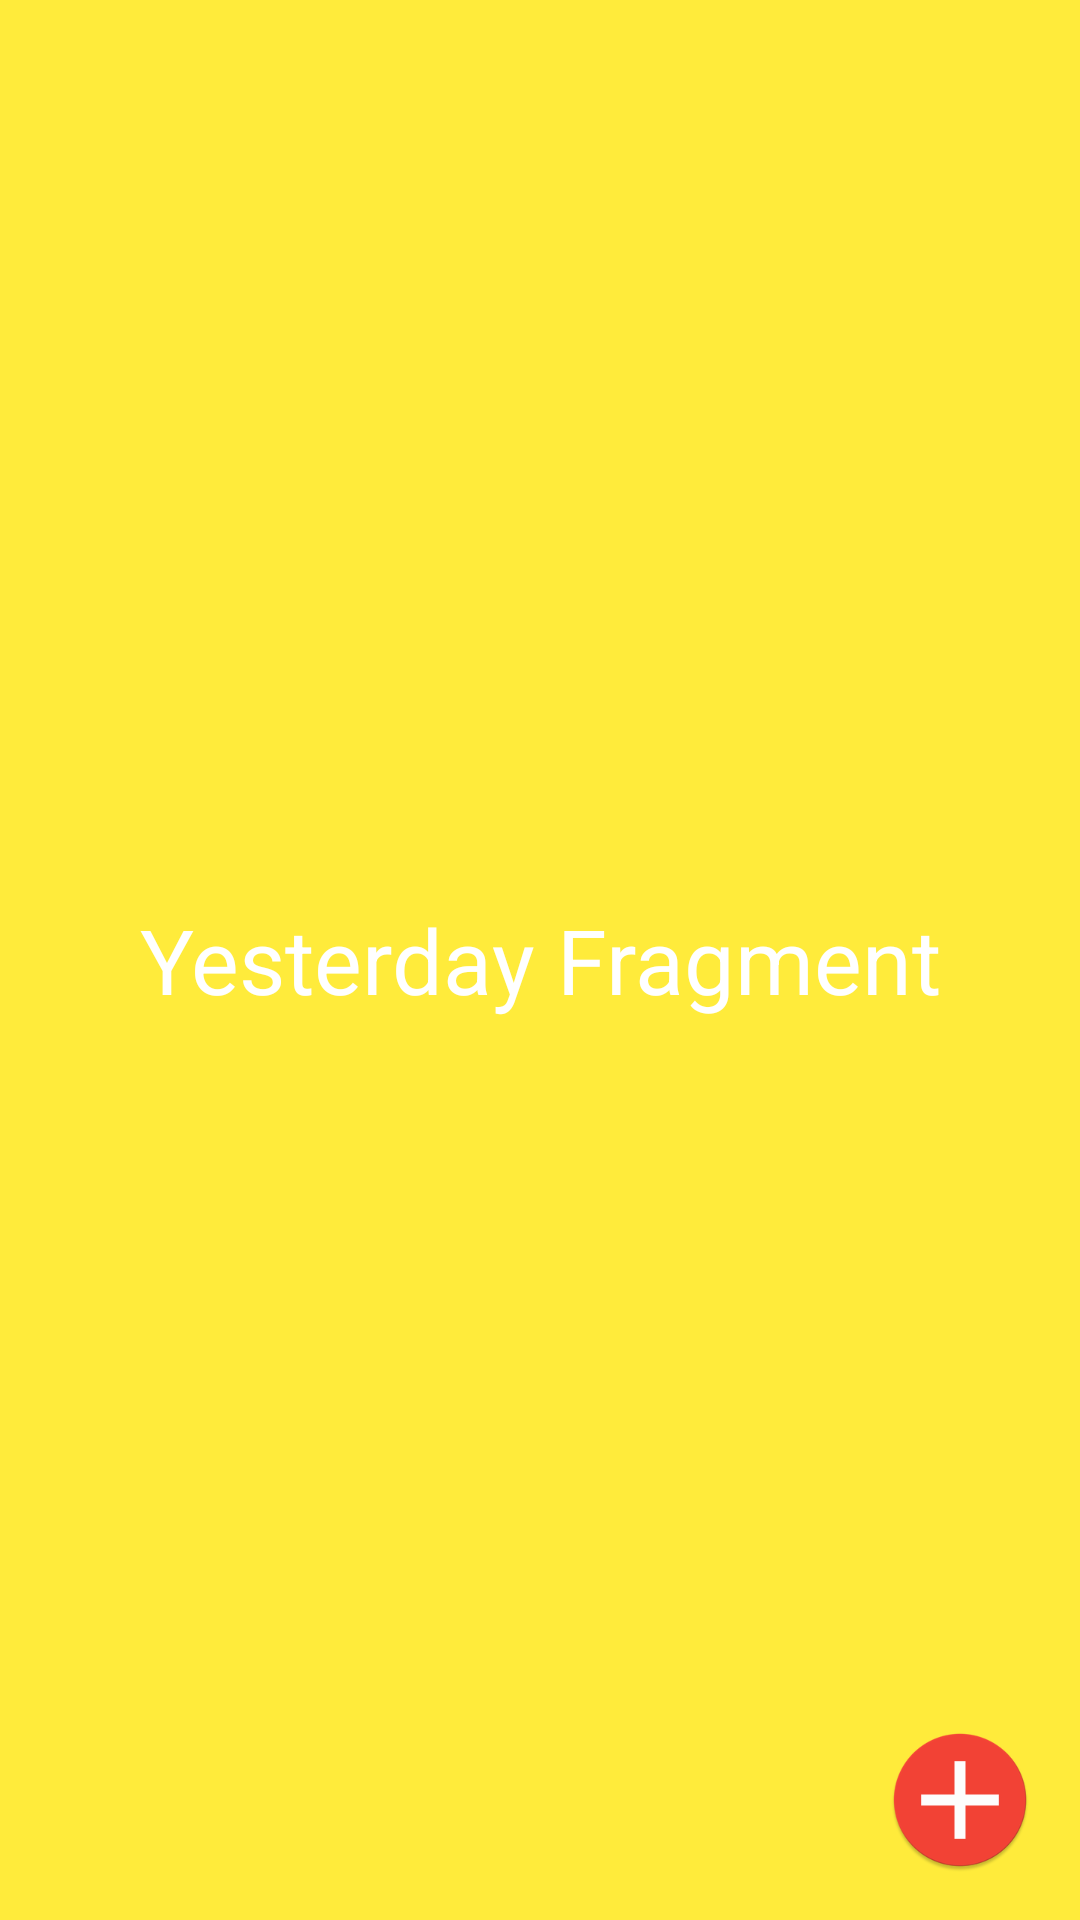

Icon bounding boxes for this 1080*1920 phone screenshot, format (x1, y1, x2, y2):
fab add: (893, 1733, 1027, 1869)
